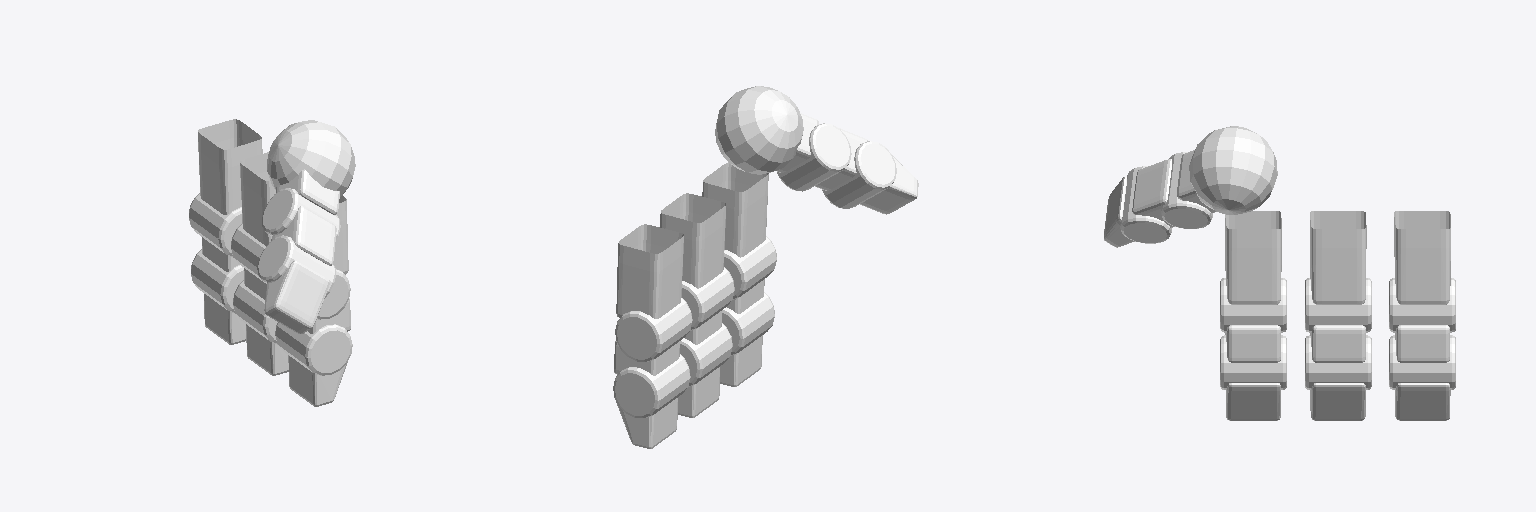
File: Dedos_Derechos.obj
3 views of the same model, side by side, from view 1: azimuth 30°, elevation 25°; view 2: azimuth 150°, elevation 25°; view 3: azimuth 270°, elevation 25° (orthographic).
Parts seen in each view (by area): view 1: rig_test.008; view 2: rig_test.008; view 3: rig_test.008.
Part boxes in pixels (x1,y1,x2,y2): rig_test.008: (189,119,355,406); rig_test.008: (613,86,918,448); rig_test.008: (1104,126,1455,420).
Size of the model in its own units: 17.98 by 34.41 by 39.02.